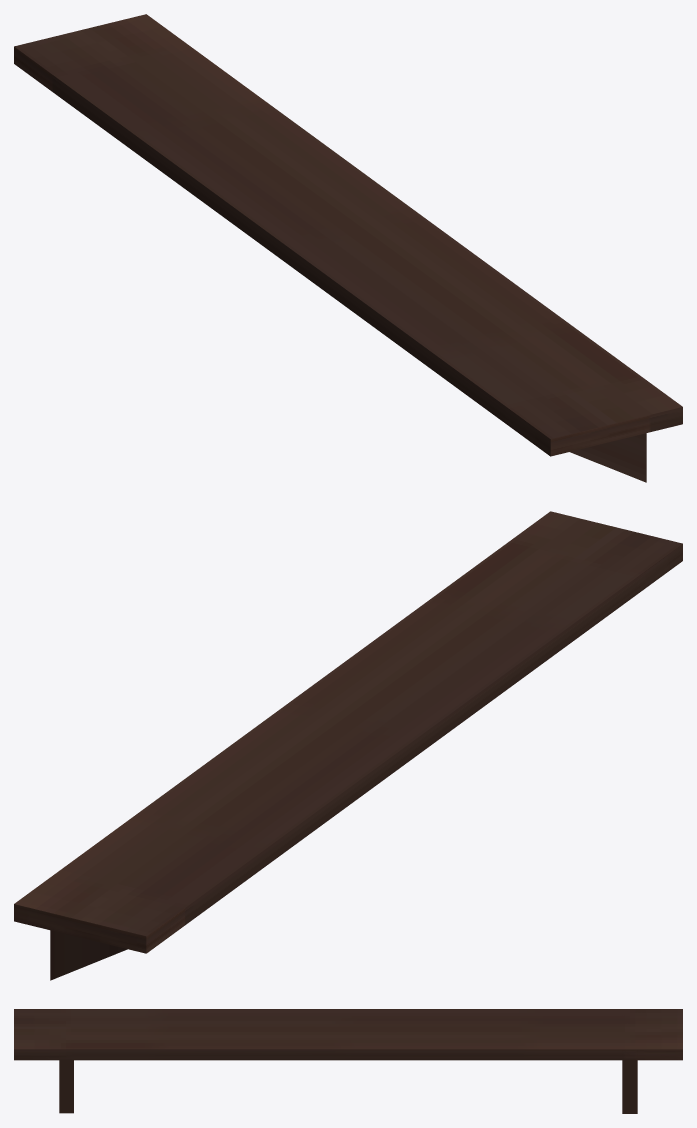
Rendered from attachable shelf.fbx.
3 renders of one model, top to bottom at view 1: azimuth 30°, elevation 25°; view 2: azimuth 150°, elevation 25°; view 3: azimuth 270°, elevation 25°, orthographic. The views are drawn at different scales.
Parts seen in each view (by area): view 1: Cube; view 2: Cube; view 3: Cube.
Boxes of the visible parts, x1=… form: Cube: x1=14, y1=14, x2=682, y2=482; Cube: x1=14, y1=511, x2=682, y2=980; Cube: x1=14, y1=1009, x2=682, y2=1113.
Bounding box in the file's own units: 231 × 172 × 1622.
1 material, 1 textured.
